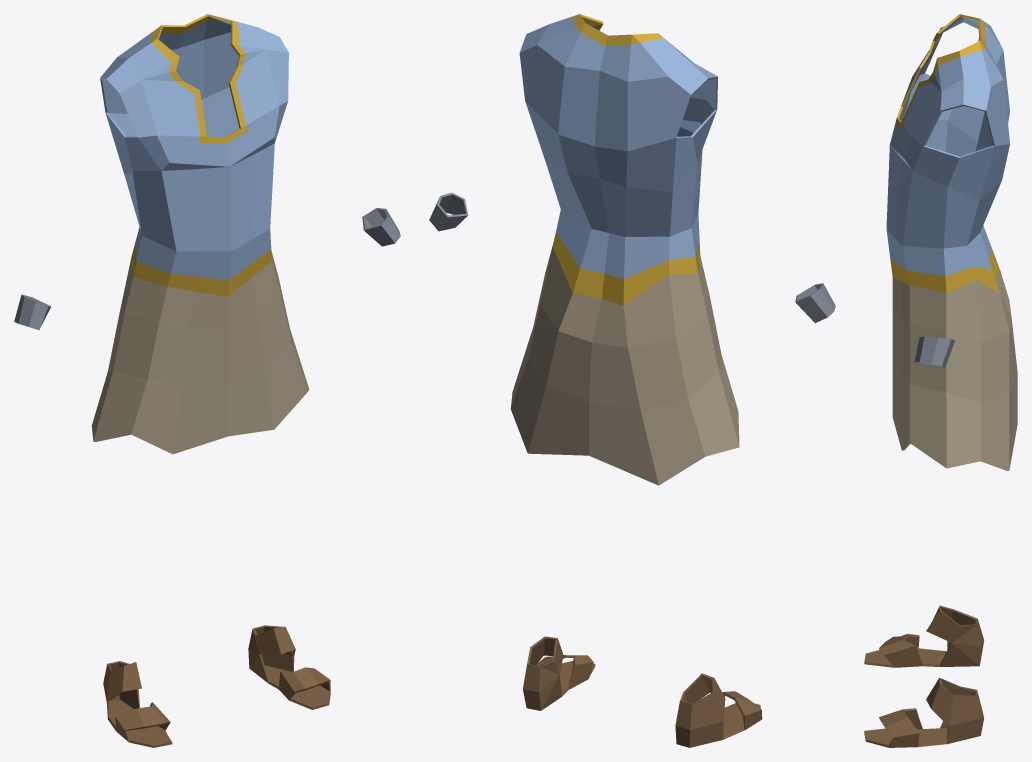
File: M Citizen.fbx
The picture shows the model from 3 angles, left to right: view 1: azimuth 30°, elevation 25°; view 2: azimuth 150°, elevation 25°; view 3: azimuth 270°, elevation 25°; orthographic projection. The views are drawn at different scales.
Visible parts, largest first — view 1: M Citizen; view 2: M Citizen; view 3: M Citizen.
Part boxes in pixels (bbox=[...]): M Citizen: bbox=[14, 14, 400, 747]; M Citizen: bbox=[429, 14, 835, 747]; M Citizen: bbox=[864, 14, 1017, 747].
Bounding box in the file's own units: 181 × 303 × 62.92.
